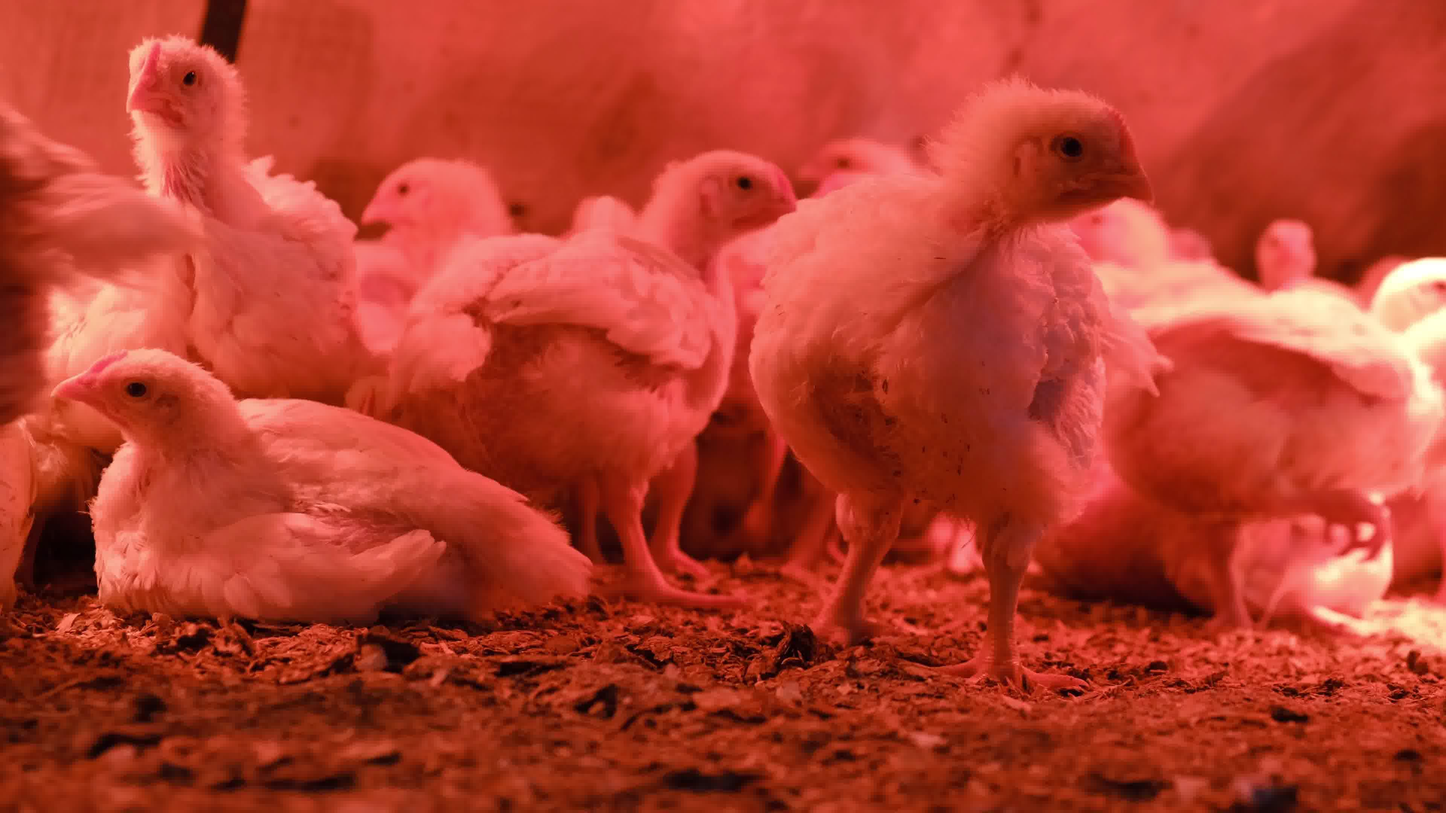AbNormal: (36, 339, 584, 602), (1145, 429, 1433, 598)
Normal: (693, 77, 1162, 694), (414, 139, 806, 600), (64, 8, 414, 346), (1117, 252, 1446, 574), (326, 102, 514, 305), (1182, 177, 1344, 301)
